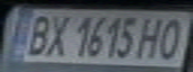1: (66, 12, 93, 57), (103, 12, 124, 59)
5: (118, 13, 145, 60)
6: (87, 12, 109, 59)
B: (18, 11, 57, 57)
H: (133, 13, 172, 60)
O: (151, 15, 193, 60)
X: (39, 11, 75, 58)
